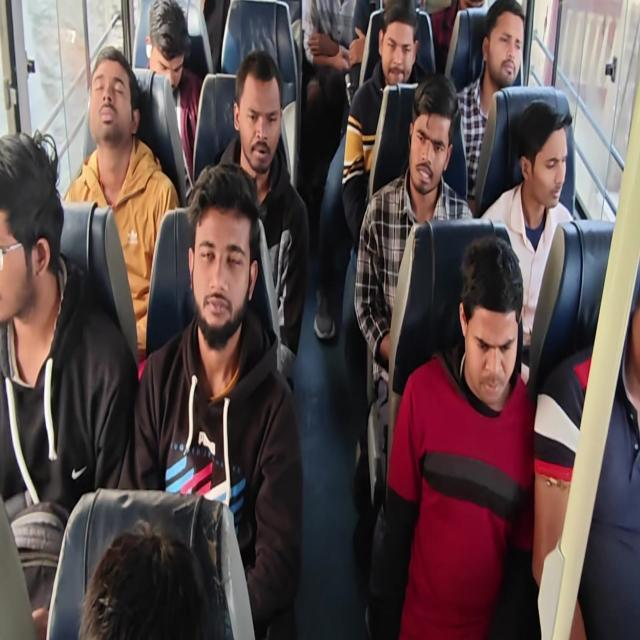person: (0, 140, 63, 319), (90, 559, 222, 640), (459, 265, 516, 422), (189, 192, 243, 334), (512, 112, 574, 206), (401, 103, 449, 195), (82, 61, 134, 142), (375, 8, 423, 92), (234, 91, 283, 171), (144, 9, 188, 92), (484, 0, 524, 81)
